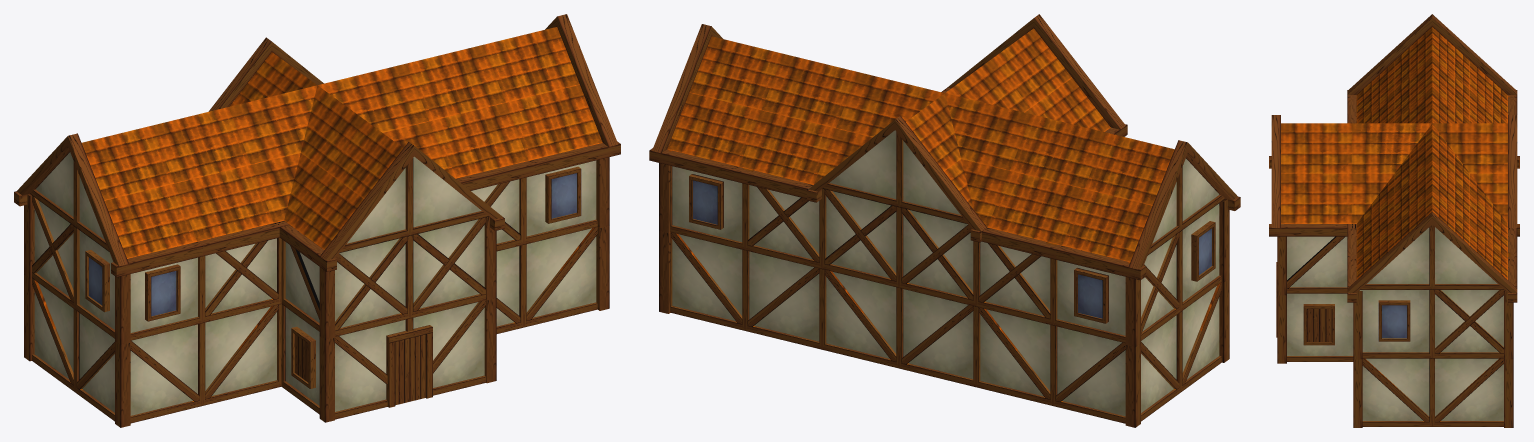
The model's file is Medieval_House_02b.fbx.
3 views of the same model, side by side, from view 1: azimuth 30°, elevation 25°; view 2: azimuth 150°, elevation 25°; view 3: azimuth 270°, elevation 25° (orthographic). The views are drawn at different scales.
Visible parts, largest first — view 1: Medieval_House_02.001; view 2: Medieval_House_02.001; view 3: Medieval_House_02.001.
Boxes of the visible parts, <box> form: Medieval_House_02.001: <box>14,14,620,427</box>; Medieval_House_02.001: <box>649,14,1240,427</box>; Medieval_House_02.001: <box>1269,14,1519,427</box>.
Bounding box in the file's own units: 1625 × 796 × 844.
